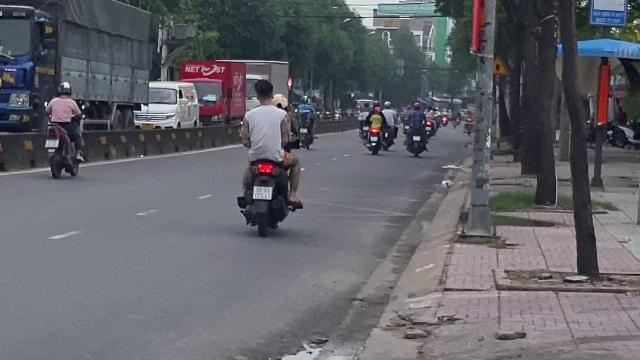licenseplate: (253, 185, 271, 198)
motorcyclist: (235, 79, 305, 235), (43, 82, 85, 178)
nohelmet: (253, 80, 275, 104)
